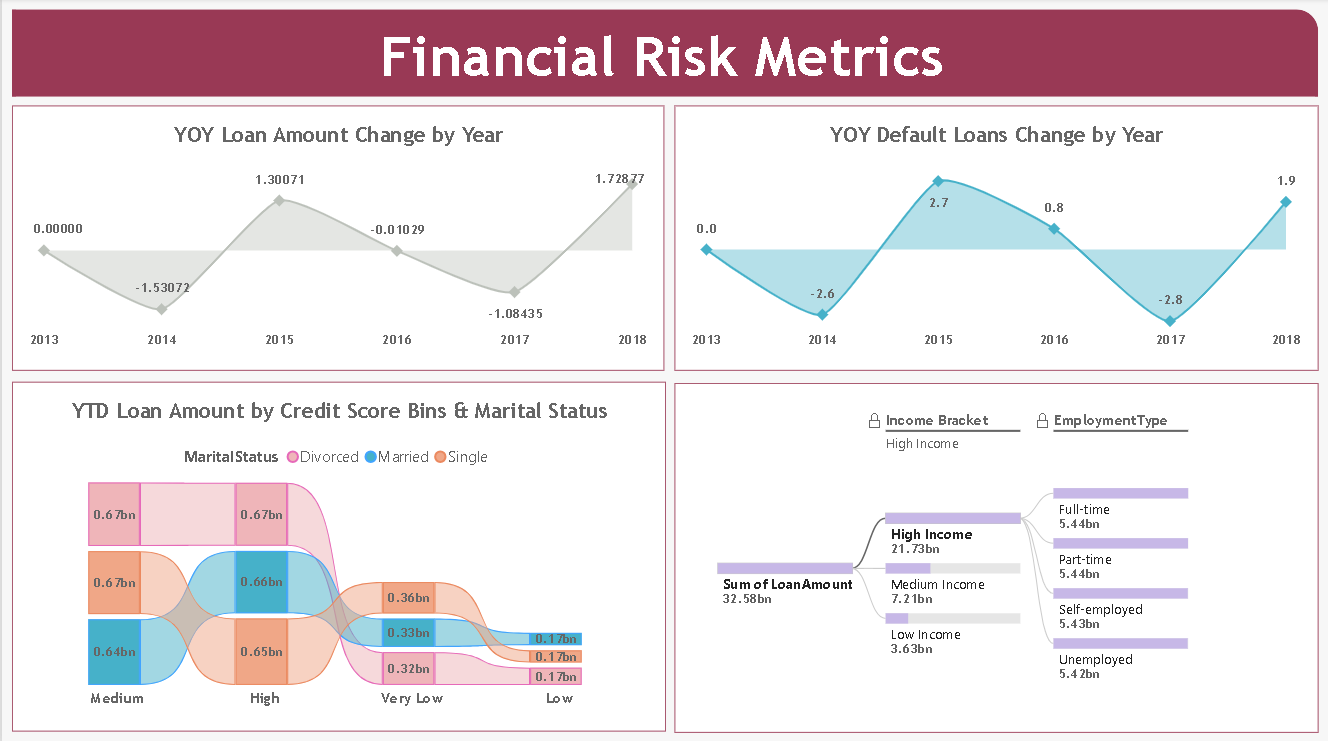

Layout of this report page (visuals, bound fields, positions):
{"tool":"powerbi","page":{"name":"Financial Risk Metrics","canvas":[1280,720],"ordinal":2},"visuals":[{"type":"shape","box":[9.7,10.9,1260.7,84.5],"z":0},{"type":"lineChart","title":"YOY Loan Amount Change by Year","fields":{"Category":["Loan_default.Year"],"Y":["Measures Table3.YOY Loan Amount Change"]},"box":[9.7,103.8,629.8,255.8],"z":1000},{"type":"ribbonChart","title":"YTD Loan Amount by Credit Score Bins & Marital Status","fields":{"Category":["Loan_default.Credit Score Bins"],"Series":["Loan_default.MaritalStatus"],"Y":["Measures Table3.YTD Loan Amount"]},"box":[9.7,370.4,631,337.8],"z":2000},{"type":"decompositionTreeVisual","title":"Number of Loans by Education Type","fields":{"Analyze":["Sum(Loan_default.LoanAmount)"],"ExplainBy":["Loan_default.Income Bracket","Loan_default.EmploymentType"]},"box":[648.7,371.6,621.7,337.2],"z":3000},{"type":"lineChart","title":"YOY Default Loans Change by Year","fields":{"Category":["Loan_default.Year"],"Y":["Measures Table3.YOY Default Loans Change"]},"box":[649.1,103.8,621.3,255.8],"z":4000}]}

Visuals, with their boxes in screenshot pixels (x1, y1, x2, y2), scaled from the page's 1280x720 canvas onto the 1328x741 screenshot:
shape: [10, 11, 1318, 98]
"YOY Loan Amount Change by Year" lineChart: [10, 107, 663, 370]
"YTD Loan Amount by Credit Score Bins & Marital Status" ribbonChart: [10, 381, 665, 729]
"Number of Loans by Education Type" decompositionTreeVisual: [673, 382, 1318, 729]
"YOY Default Loans Change by Year" lineChart: [673, 107, 1318, 370]
